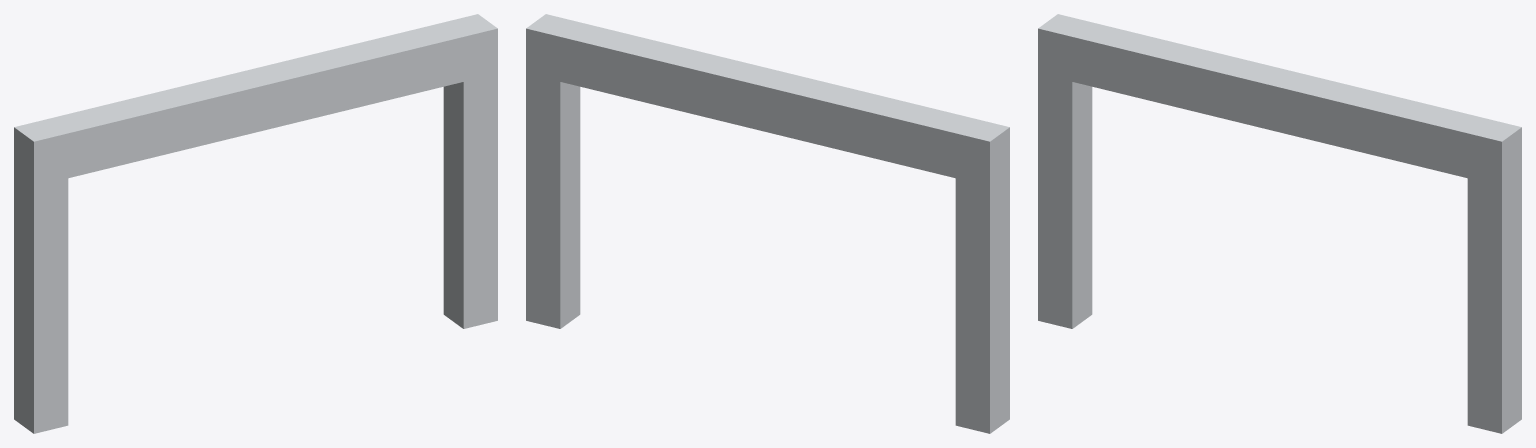
The model's file is finish_arch.glb.
3 renders of one model, left to right at view 1: azimuth 30°, elevation 25°; view 2: azimuth 150°, elevation 25°; view 3: azimuth 330°, elevation 25°, orthographic.
Visible parts, largest first — view 1: finish_arch; view 2: finish_arch; view 3: finish_arch.
Boxes of the visible parts, x1=… form: finish_arch: x1=14, y1=14, x2=497, y2=433; finish_arch: x1=526, y1=14, x2=1009, y2=433; finish_arch: x1=1038, y1=14, x2=1521, y2=433.
Bounding box in the file's own units: 5.4 × 3.25 × 0.4.
Materials: 1 (1 with a texture image).
